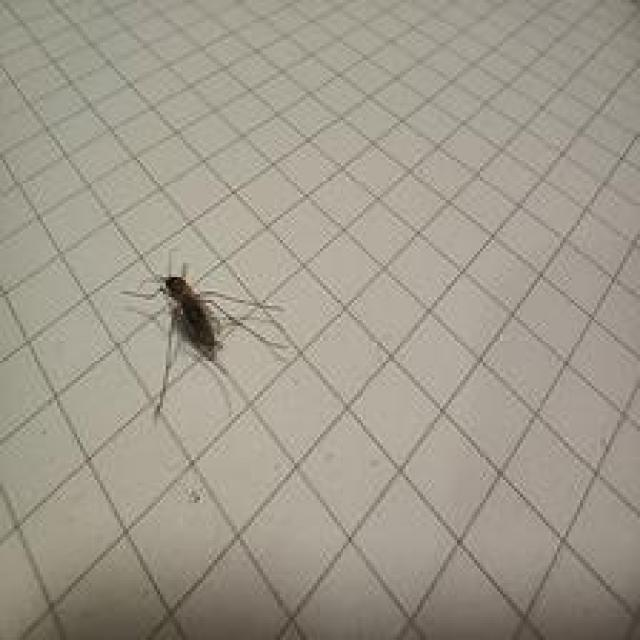Culex: (120, 250, 291, 421)
